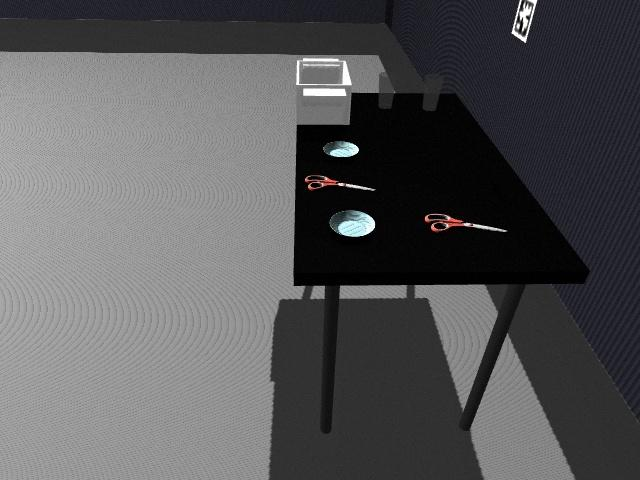cup: (422, 74, 443, 112)
plate: (328, 209, 376, 238), (322, 141, 360, 159)
scissors: (425, 211, 508, 234), (306, 175, 374, 192)
